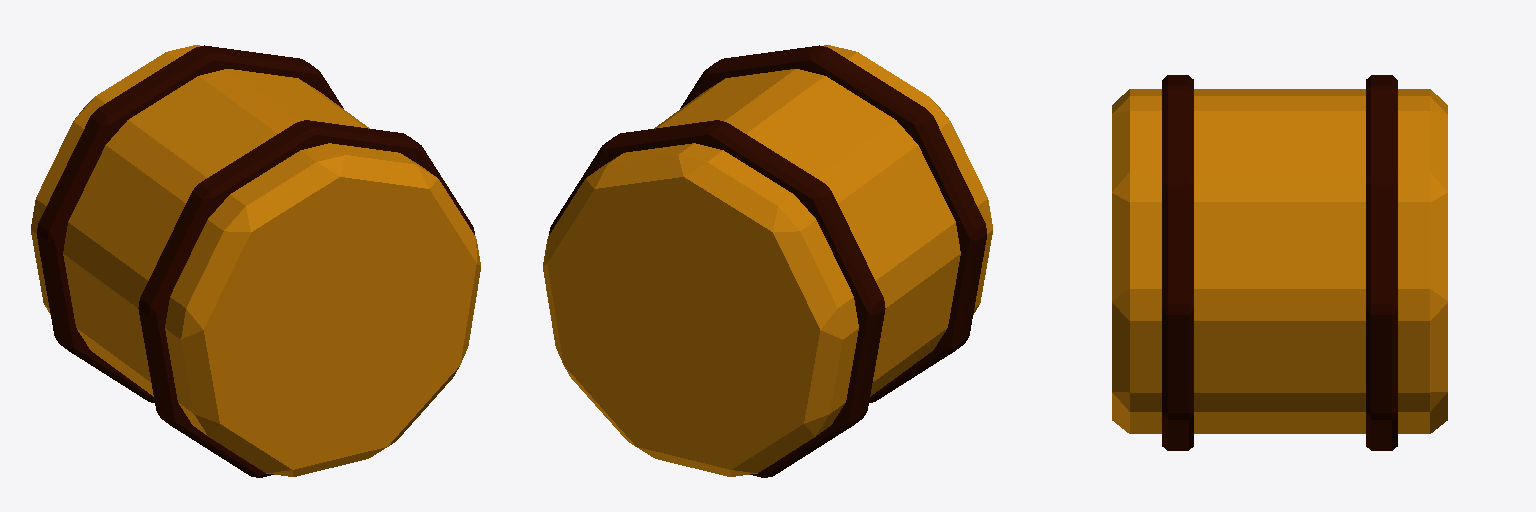
File: haybales.obj
3 renders of one model, left to right at view 1: azimuth 30°, elevation 25°; view 2: azimuth 150°, elevation 25°; view 3: azimuth 270°, elevation 25°, orthographic.
Parts seen in each view (by area): view 1: Cylinder, Cylinder.001; view 2: Cylinder, Cylinder.001; view 3: Cylinder, Cylinder.001.
Part boxes in pixels (x1,y1,x2,y2): Cylinder: (31,45,480,476); Cylinder.001: (37,45,474,477); Cylinder: (543,45,992,476); Cylinder.001: (549,45,986,477); Cylinder: (1112,89,1447,433); Cylinder.001: (1162,75,1397,450).
Bounding box in the file's own units: 2.1 × 2.07 × 1.88.